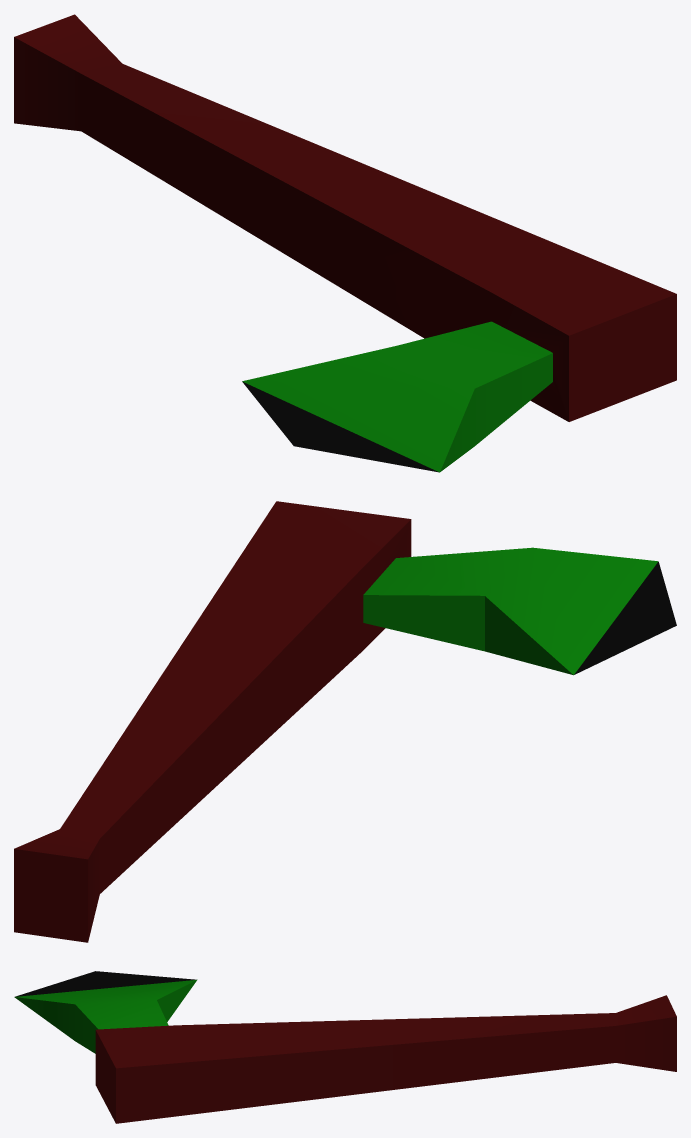
Rendered from SM_BronzeAxe.fbx.
3 renders of one model, top to bottom at view 1: azimuth 30°, elevation 25°; view 2: azimuth 150°, elevation 25°; view 3: azimuth 270°, elevation 25°, orthographic. The views are drawn at different scales.
Parts seen in each view (by area): view 1: SM_BronzeAxe; view 2: SM_BronzeAxe; view 3: SM_BronzeAxe.
Part boxes in pixels (<box>): SM_BronzeAxe: <box>14,14,676,472</box>; SM_BronzeAxe: <box>14,501,676,942</box>; SM_BronzeAxe: <box>14,971,676,1123</box>.
Size of the model in its own units: 29 by 6 by 65.
